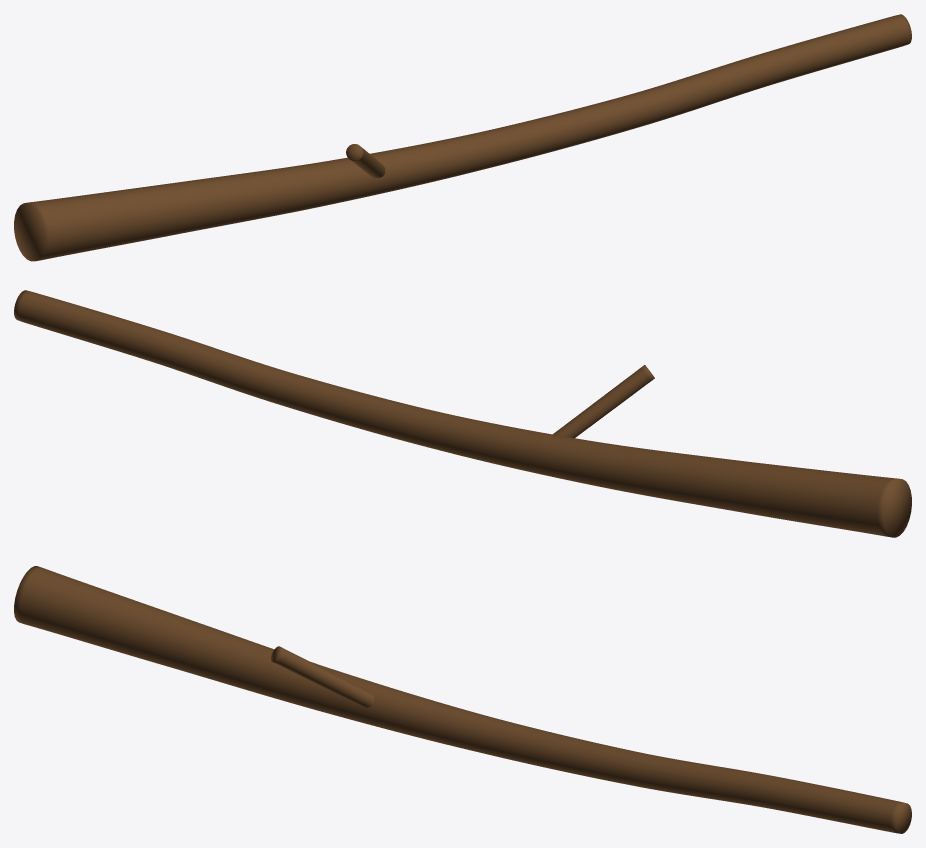
File: stick_a.glb
The picture shows the model from 3 angles, top to bottom: view 1: azimuth 30°, elevation 25°; view 2: azimuth 150°, elevation 25°; view 3: azimuth 330°, elevation 25°; orthographic projection.
Visible parts, largest first — view 1: Shaft, Twig1; view 2: Shaft, Twig1; view 3: Shaft, Twig1.
Boxes of the visible parts, left/top/right/bottom form: Shaft: left=14, top=14, right=911, bottom=261; Twig1: left=346, top=144, right=385, bottom=177; Shaft: left=14, top=290, right=911, bottom=537; Twig1: left=553, top=365, right=654, bottom=438; Shaft: left=14, top=566, right=911, bottom=833; Twig1: left=271, top=646, right=374, bottom=707.
Size of the model in its own units: 0.5223 by 0.0533 by 0.0588.
